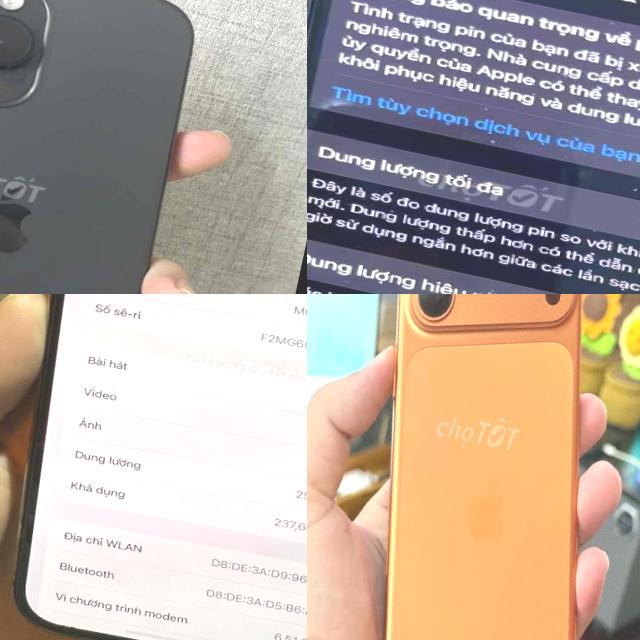gen_12_13: (0, 294, 307, 640), (307, 0, 640, 294)
gen_14: (0, 0, 227, 294)
